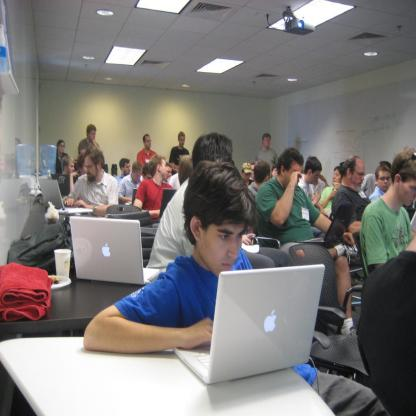board: (174, 264, 326, 384), (70, 217, 160, 284), (294, 204, 358, 245), (38, 180, 93, 214), (51, 173, 78, 198), (55, 247, 72, 280), (160, 188, 176, 217), (132, 188, 136, 204)
